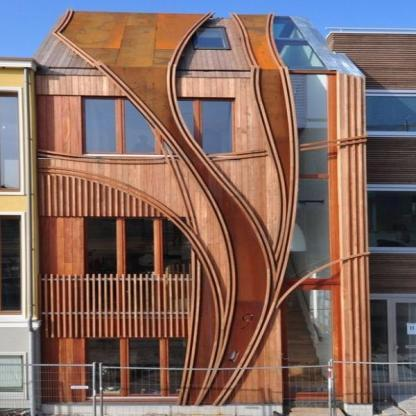Building Outline: (32, 8, 374, 416)
Door: (281, 285, 343, 396)
Facade: (31, 8, 375, 416)
Glass Wall: (279, 75, 330, 279)
Roof: (33, 12, 105, 76), (175, 17, 250, 77)
Window: (85, 219, 191, 315), (85, 100, 232, 153), (85, 339, 191, 396), (259, 17, 325, 67), (197, 28, 225, 47)
